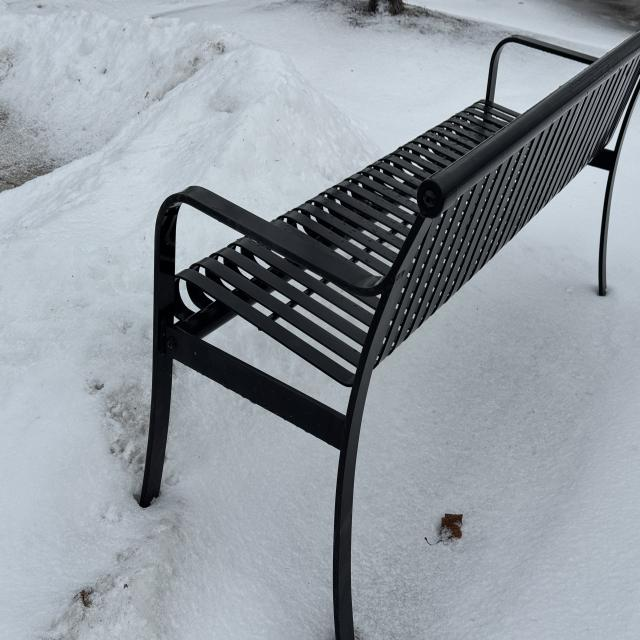Bench: (123, 36, 626, 636)
